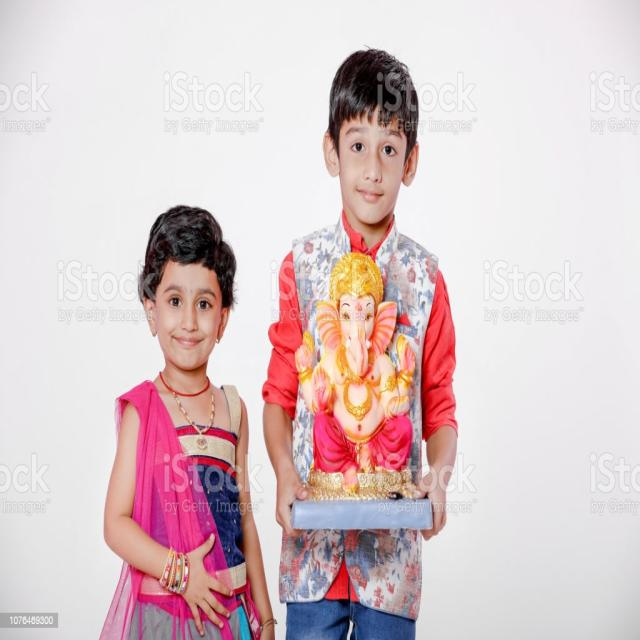child: (261, 49, 463, 636), (93, 195, 278, 637)
